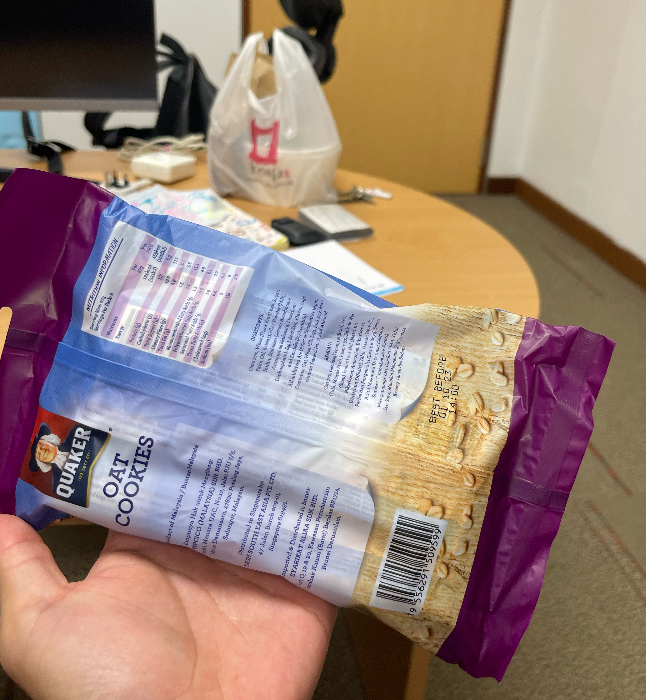cookies_100g-199g: (76, 284, 427, 532)
